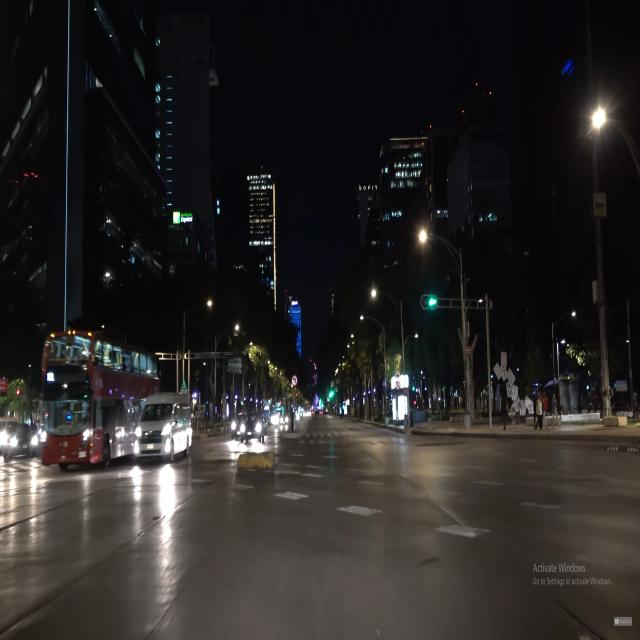headlights: (34, 424, 98, 453), (128, 422, 182, 456), (240, 421, 265, 438)
